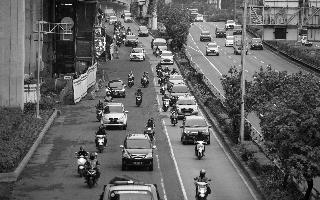mobil: (121, 135, 152, 173), (180, 115, 208, 147), (100, 104, 126, 130), (175, 95, 199, 119), (168, 84, 190, 108), (106, 78, 126, 98), (128, 48, 146, 62), (206, 42, 220, 56)
motor: (83, 154, 103, 188), (191, 171, 212, 200), (73, 148, 89, 176), (194, 132, 208, 162), (94, 128, 106, 154), (145, 118, 155, 142), (94, 101, 106, 121), (168, 104, 178, 127), (133, 90, 145, 108), (162, 94, 170, 114), (140, 72, 150, 88), (158, 78, 166, 96), (127, 72, 135, 88), (156, 64, 162, 76)
